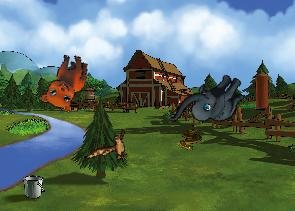bear: (38, 49, 90, 114)
eagle: (83, 119, 140, 178)
elephant: (168, 58, 250, 146)
